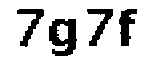7: (81, 5, 115, 50), (13, 5, 46, 48)
f: (117, 7, 141, 49)
g: (46, 16, 79, 58)
